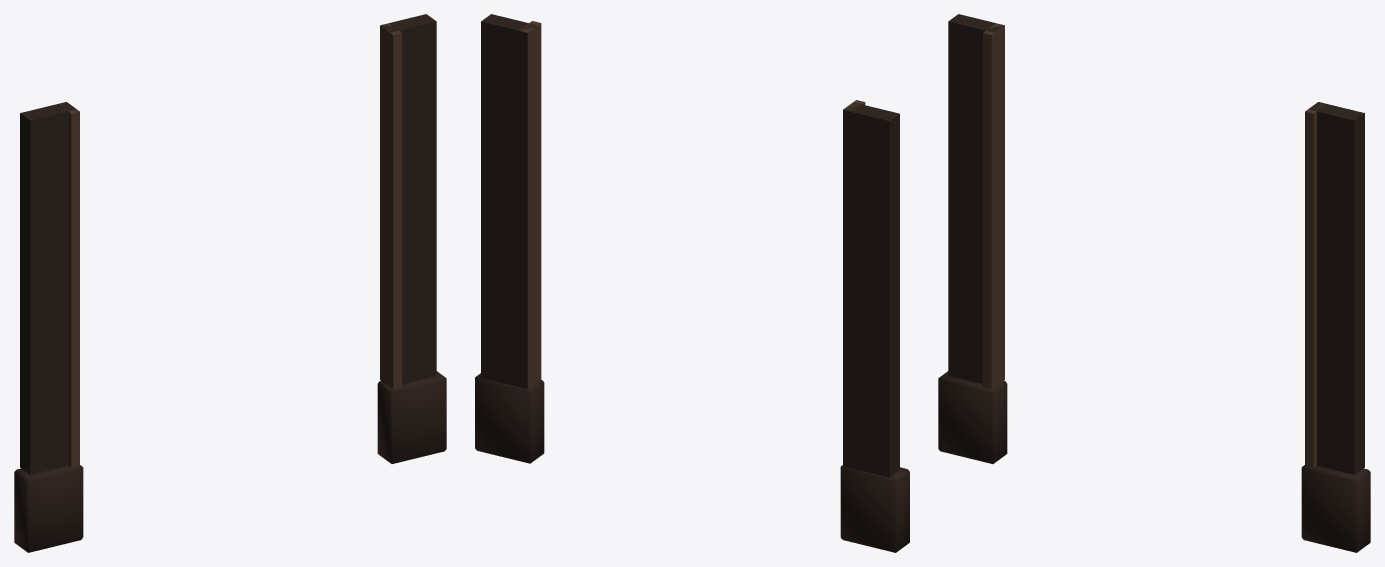
The model's file is kit_manor_doorway.glb.
3 renders of one model, left to right at view 1: azimuth 30°, elevation 25°; view 2: azimuth 150°, elevation 25°; view 3: azimuth 330°, elevation 25°, orthographic.
Parts seen in each view (by area): view 1: kit_manor_doorway; view 2: kit_manor_doorway; view 3: kit_manor_doorway.
Part boxes in pixels (left/top/right/bottom): kit_manor_doorway: left=14, top=14, right=446, bottom=552; kit_manor_doorway: left=475, top=14, right=909, bottom=552; kit_manor_doorway: left=938, top=14, right=1370, bottom=552.
Size of the model in its own units: 1.18 by 1.15 by 0.07.
